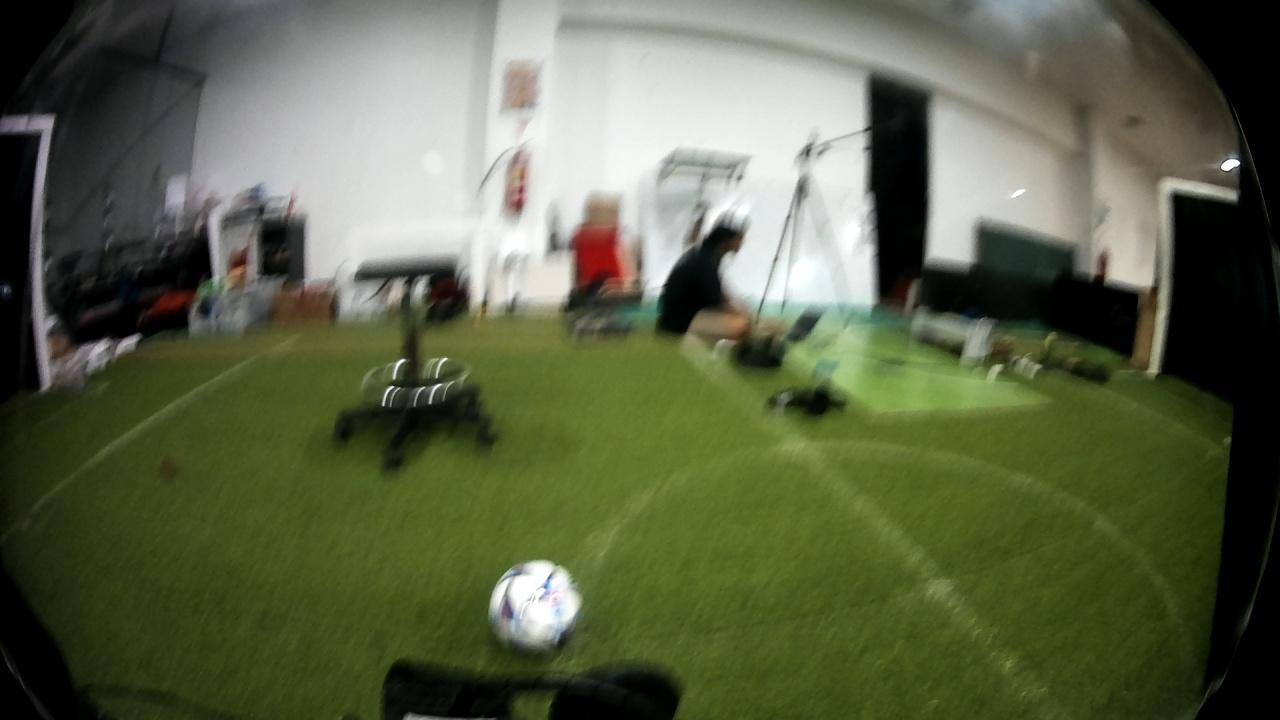ball: (486, 552, 585, 658)
